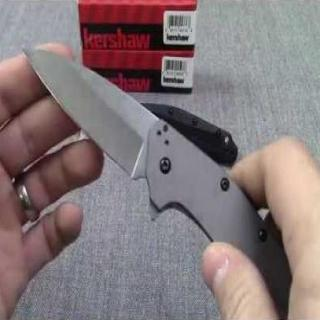knife: (13, 27, 297, 319)
